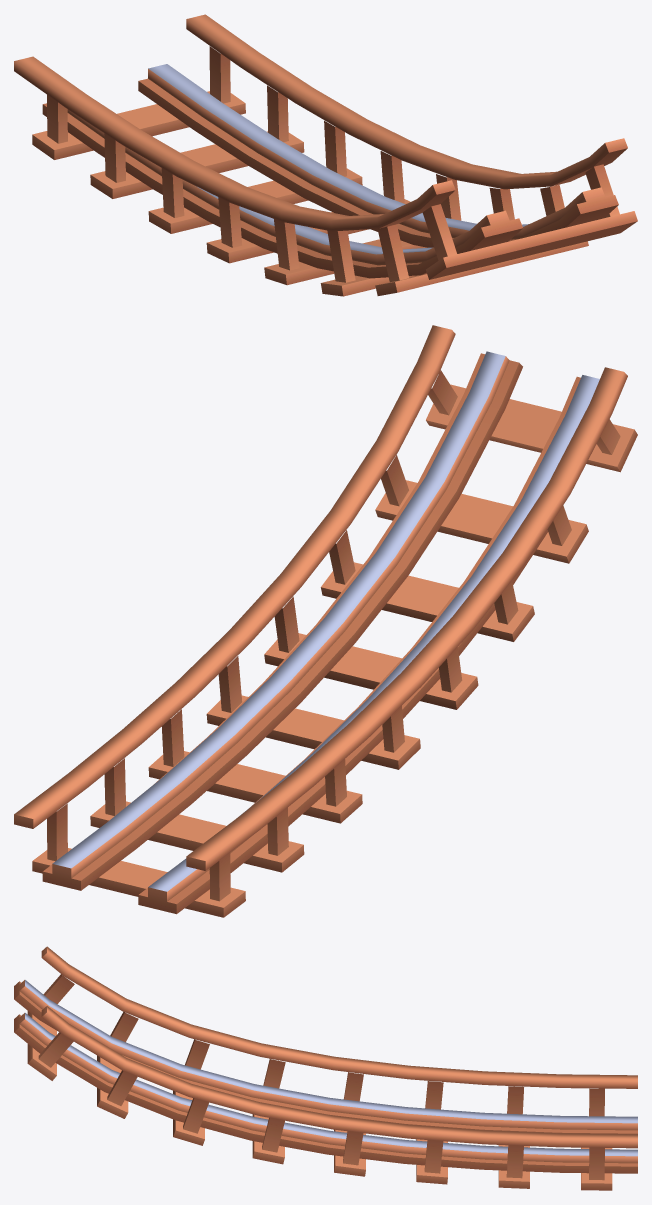
The model's file is kenney-coaster-coaster-wood-straight-hill-beginning.glb.
The picture shows the model from 3 angles, top to bottom: view 1: azimuth 30°, elevation 25°; view 2: azimuth 150°, elevation 25°; view 3: azimuth 270°, elevation 25°; orthographic projection. The views are drawn at different scales.
Visible parts, largest first — view 1: coaster-wood-straight-hill-beginning; view 2: coaster-wood-straight-hill-beginning; view 3: coaster-wood-straight-hill-beginning.
Part boxes in pixels (x1=…): coaster-wood-straight-hill-beginning: x1=14, y1=14, x2=637, y2=296; coaster-wood-straight-hill-beginning: x1=14, y1=325, x2=637, y2=917; coaster-wood-straight-hill-beginning: x1=14, y1=946, x2=637, y2=1190.
Size of the model in its own units: 1 by 1.26 by 4.
1 material, 1 textured.
